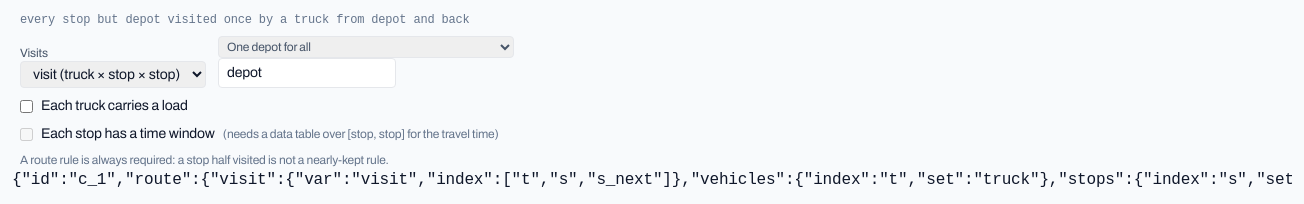
Test: time windows on the route rule (queue R15c) › lets each vehicle start where an earlier plan placed it, by a relationship either way (benchmark re-test, October 2026)
Select "Each from where it is linked (an earlier plan placed it)" in the dropdown named "Where vehicles start": [366, 47] box left=218, top=36, right=514, bottom=58
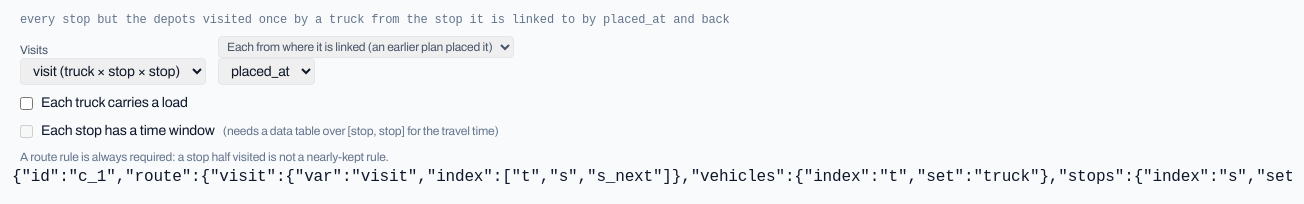
Now the text "every stop but the depots visited once by a truck from the stop it is linked to by placed_at and back" is shown, box left=20, top=13, right=730, bottom=27
